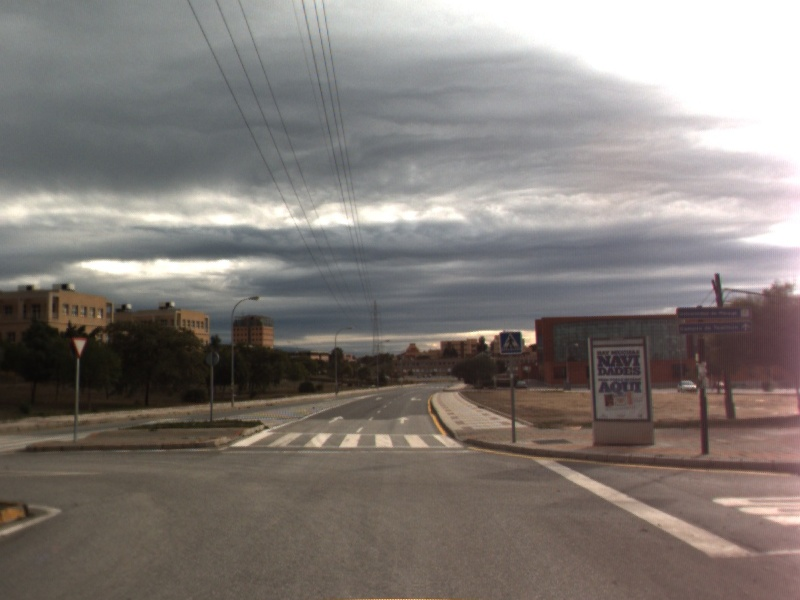STRAIGHT: (326, 413, 346, 426), (394, 414, 412, 426)
